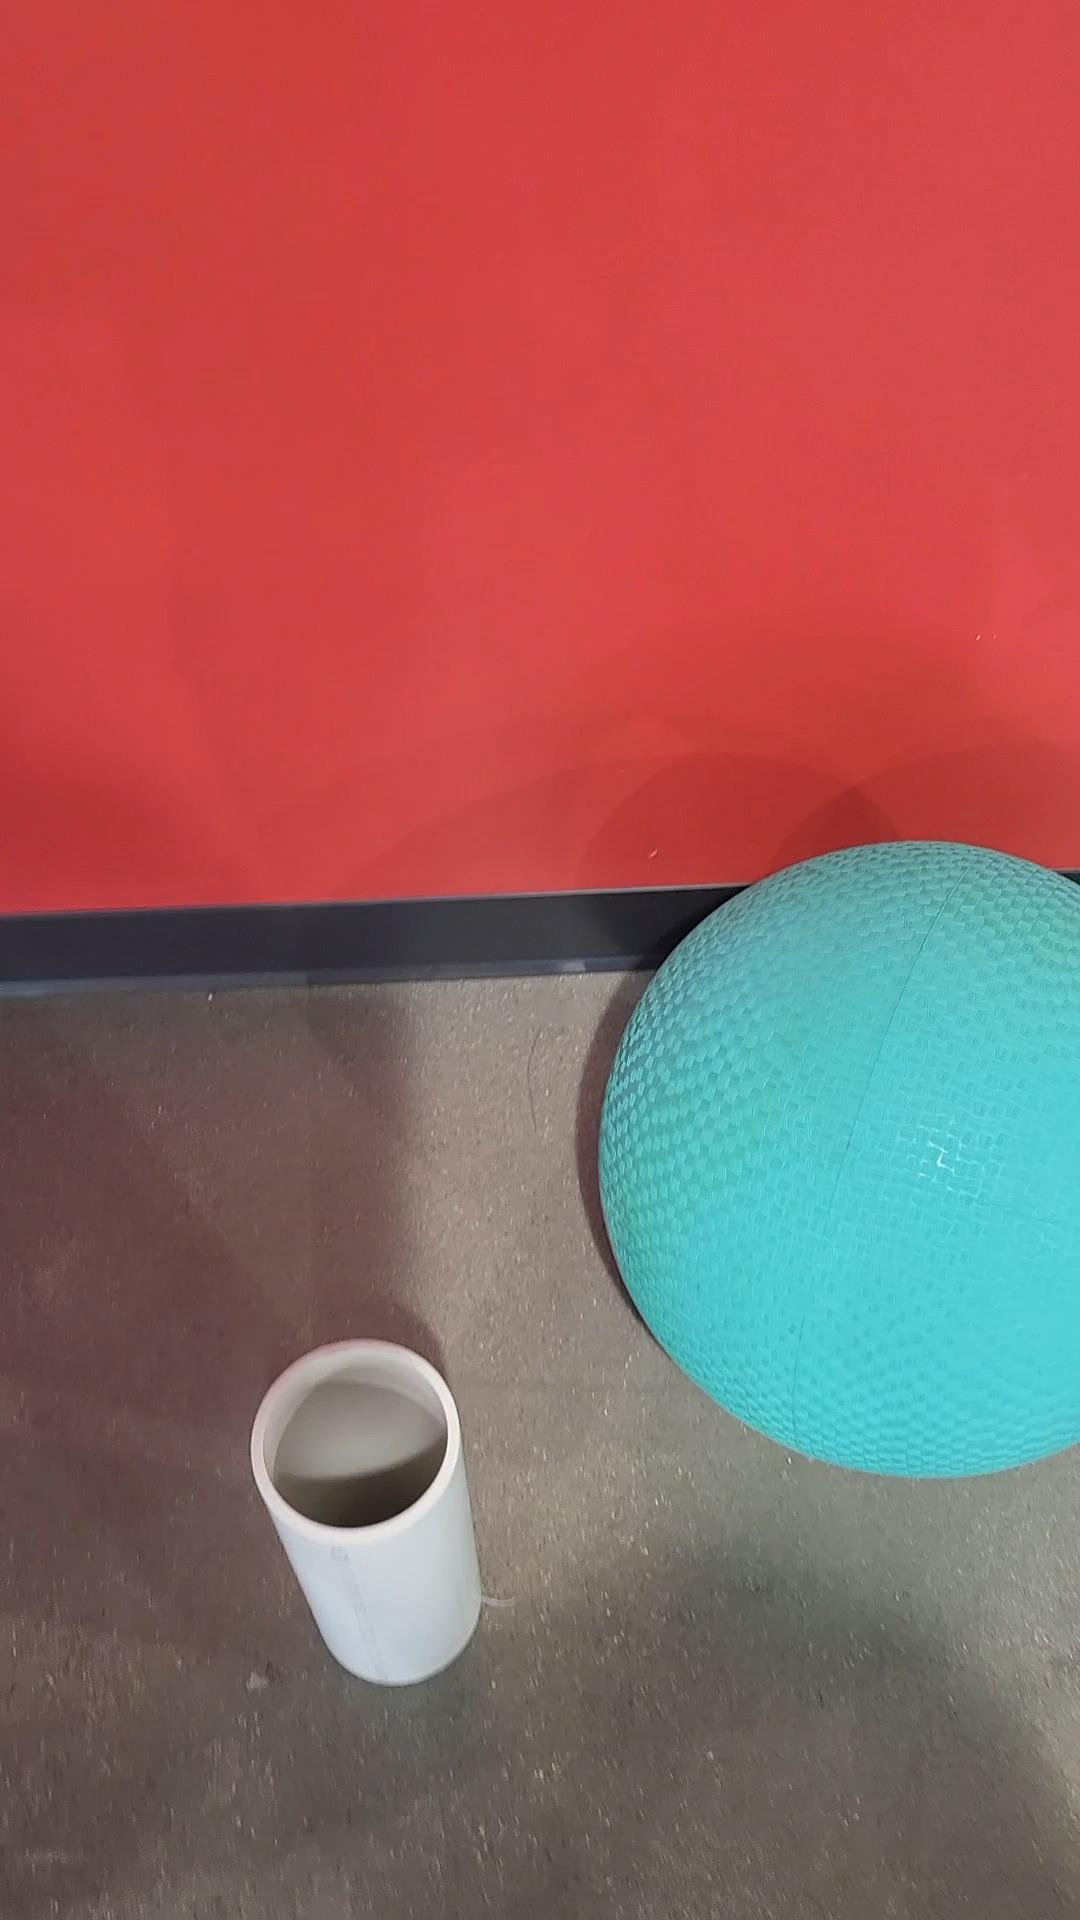algae: (597, 837, 1079, 1482)
coral: (253, 1337, 483, 1687)
